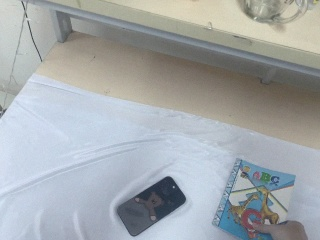book: (212, 158, 296, 240)
phone: (116, 175, 187, 237)
